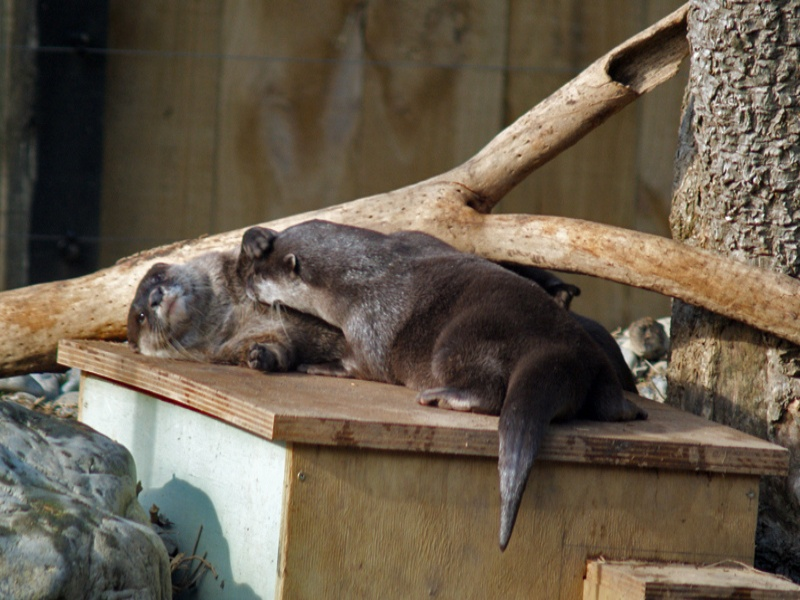minkish: (239, 215, 630, 541), (129, 248, 368, 386)
